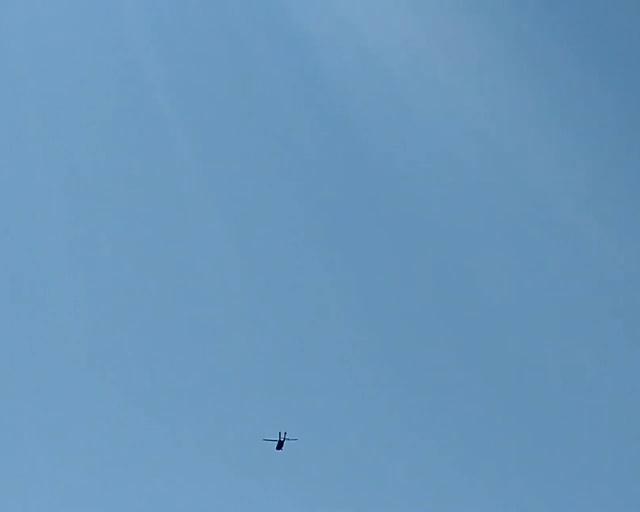HELICOPTER: (261, 430, 298, 450)
